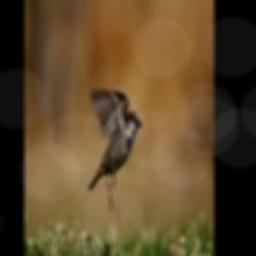Sparrow: (88, 88, 141, 220)
